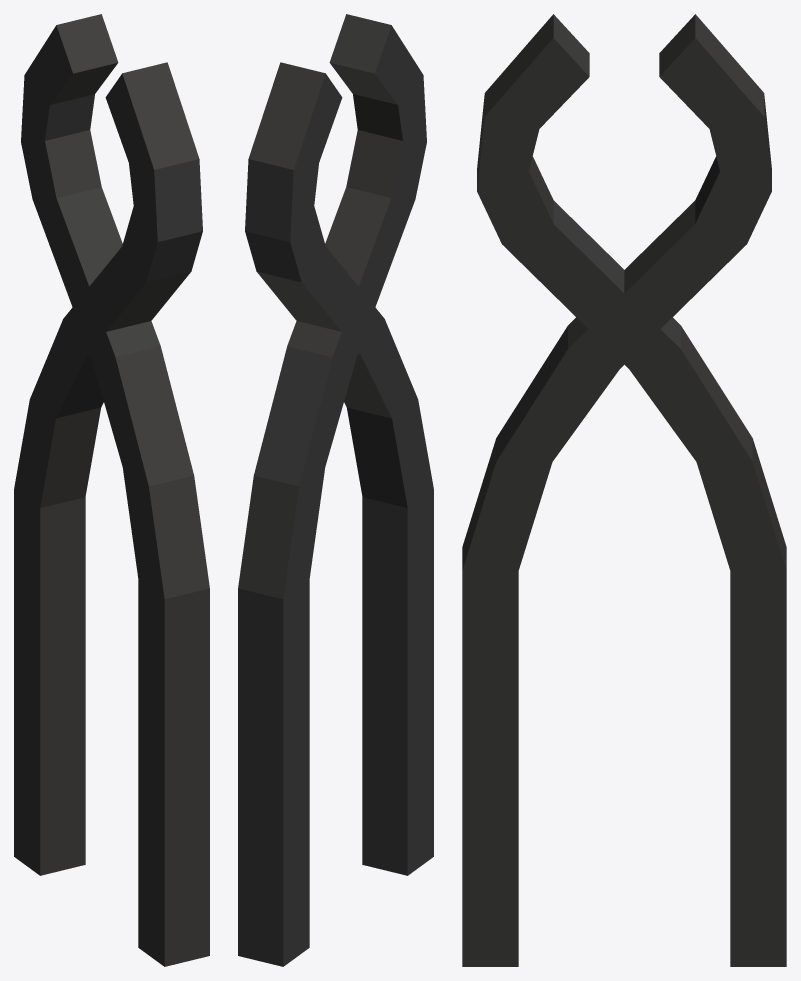
Rendered from additem_1.fbx.
3 renders of one model, left to right at view 1: azimuth 30°, elevation 25°; view 2: azimuth 150°, elevation 25°; view 3: azimuth 270°, elevation 25°, orthographic. The views are drawn at different scales.
Visible parts, largest first — view 1: Cube.001; view 2: Cube.001; view 3: Cube.001.
Boxes of the visible parts, x1=… form: Cube.001: x1=14, y1=14, x2=209, y2=966; Cube.001: x1=238, y1=14, x2=433, y2=966; Cube.001: x1=462, y1=14, x2=786, y2=966.
Size of the model in its own units: 52.62 by 958 by 303.
